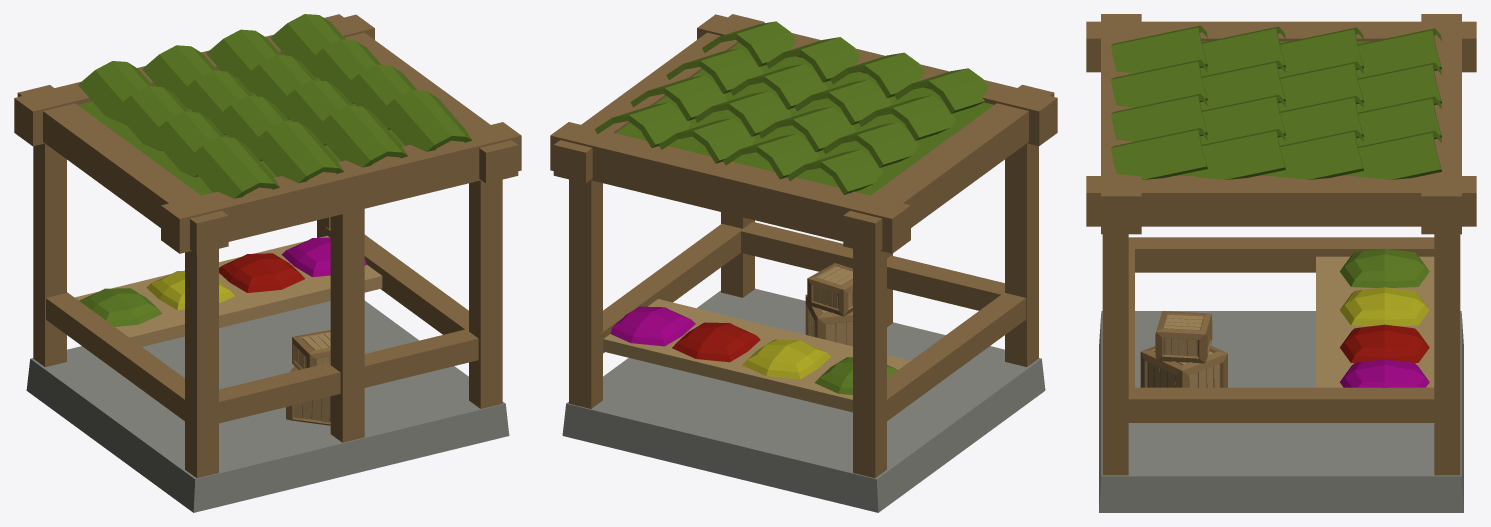
File: store.glb
3 views of the same model, side by side, from view 1: azimuth 30°, elevation 25°; view 2: azimuth 150°, elevation 25°; view 3: azimuth 270°, elevation 25° (orthographic). The views are drawn at different scales.
Visible parts, largest first — view 1: Market_SecondAge_Level3.4950, Market_SecondAge_Level3.4951, Market_SecondAge_Level3.4955, Market_SecondAge_Level3.3293, Market_SecondAge_Level3.3261, Market_SecondAge_Level3.3258, Market_SecondAge_Level3.3302, Market_SecondAge_Level3.3281, Market_SecondAge_Level3.3265, Market_SecondAge_Level3.3275, Market_SecondAge_Level3.3316, Market_SecondAge_Level3.1177 (+63 smaller); view 2: Market_SecondAge_Level3.4955, Market_SecondAge_Level3.4956, Market_SecondAge_Level3.4950, Market_SecondAge_Level3.3328, Market_SecondAge_Level3.3337, Market_SecondAge_Level3.3318, Market_SecondAge_Level3.1177, Market_SecondAge_Level3.3322, Market_SecondAge_Level3.3275, Market_SecondAge_Level3.3287, Market_SecondAge_Level3.5953, Market_SecondAge_Level3.3279 (+58 smaller); view 3: Market_SecondAge_Level3.4950, Market_SecondAge_Level3.4949, Market_SecondAge_Level3.4955, Market_SecondAge_Level3.3305, Market_SecondAge_Level3.3340, Market_SecondAge_Level3.3299, Market_SecondAge_Level3.1177, Market_SecondAge_Level3.4954, Market_SecondAge_Level3.3275, Market_SecondAge_Level3.3334, Market_SecondAge_Level3.3265, Market_SecondAge_Level3.3322 (+50 smaller).
Part boxes in pixels (x1,y1,x2,y2): Market_SecondAge_Level3.4950: [99, 333, 505, 479]; Market_SecondAge_Level3.4951: [193, 403, 509, 512]; Market_SecondAge_Level3.4955: [30, 300, 408, 408]; Market_SecondAge_Level3.3293: [262, 135, 521, 233]; Market_SecondAge_Level3.3261: [342, 209, 364, 442]; Market_SecondAge_Level3.3258: [219, 338, 478, 423]; Market_SecondAge_Level3.3302: [480, 179, 502, 408]; Market_SecondAge_Level3.3281: [197, 249, 218, 478]; Market_SecondAge_Level3.3265: [161, 122, 521, 218]; Market_SecondAge_Level3.3275: [18, 85, 228, 223]; Market_SecondAge_Level3.3316: [45, 143, 66, 367]; Market_SecondAge_Level3.1177: [74, 235, 381, 337]; Market_SecondAge_Level3.4955: [566, 358, 944, 479]; Market_SecondAge_Level3.4956: [562, 403, 878, 512]; Market_SecondAge_Level3.4950: [697, 288, 1041, 428]; Market_SecondAge_Level3.3328: [550, 135, 809, 233]; Market_SecondAge_Level3.3337: [569, 179, 591, 408]; Market_SecondAge_Level3.3318: [853, 249, 875, 478]; Market_SecondAge_Level3.1177: [604, 299, 910, 399]; Market_SecondAge_Level3.3322: [550, 122, 827, 198]; Market_SecondAge_Level3.3275: [843, 84, 1053, 223]; Market_SecondAge_Level3.3287: [741, 231, 1000, 310]; Market_SecondAge_Level3.5953: [662, 42, 993, 161]; Market_SecondAge_Level3.3279: [1005, 143, 1026, 366]; Market_SecondAge_Level3.4950: [1101, 311, 1311, 476]; Market_SecondAge_Level3.4949: [1099, 476, 1311, 512]; Market_SecondAge_Level3.4955: [1311, 311, 1461, 476]; Market_SecondAge_Level3.3305: [1102, 234, 1128, 475]; Market_SecondAge_Level3.3340: [1434, 234, 1460, 475]; Market_SecondAge_Level3.3299: [1086, 193, 1311, 226]; Market_SecondAge_Level3.1177: [1316, 256, 1434, 387]; Market_SecondAge_Level3.4954: [1311, 476, 1463, 512]; Market_SecondAge_Level3.3275: [1086, 21, 1476, 38]; Market_SecondAge_Level3.3334: [1311, 193, 1476, 226]; Market_SecondAge_Level3.3265: [1101, 14, 1141, 196]; Market_SecondAge_Level3.3322: [1421, 58, 1461, 196].
Bounding box in the file's own units: 0.6485 × 0.5898 × 0.5872.
